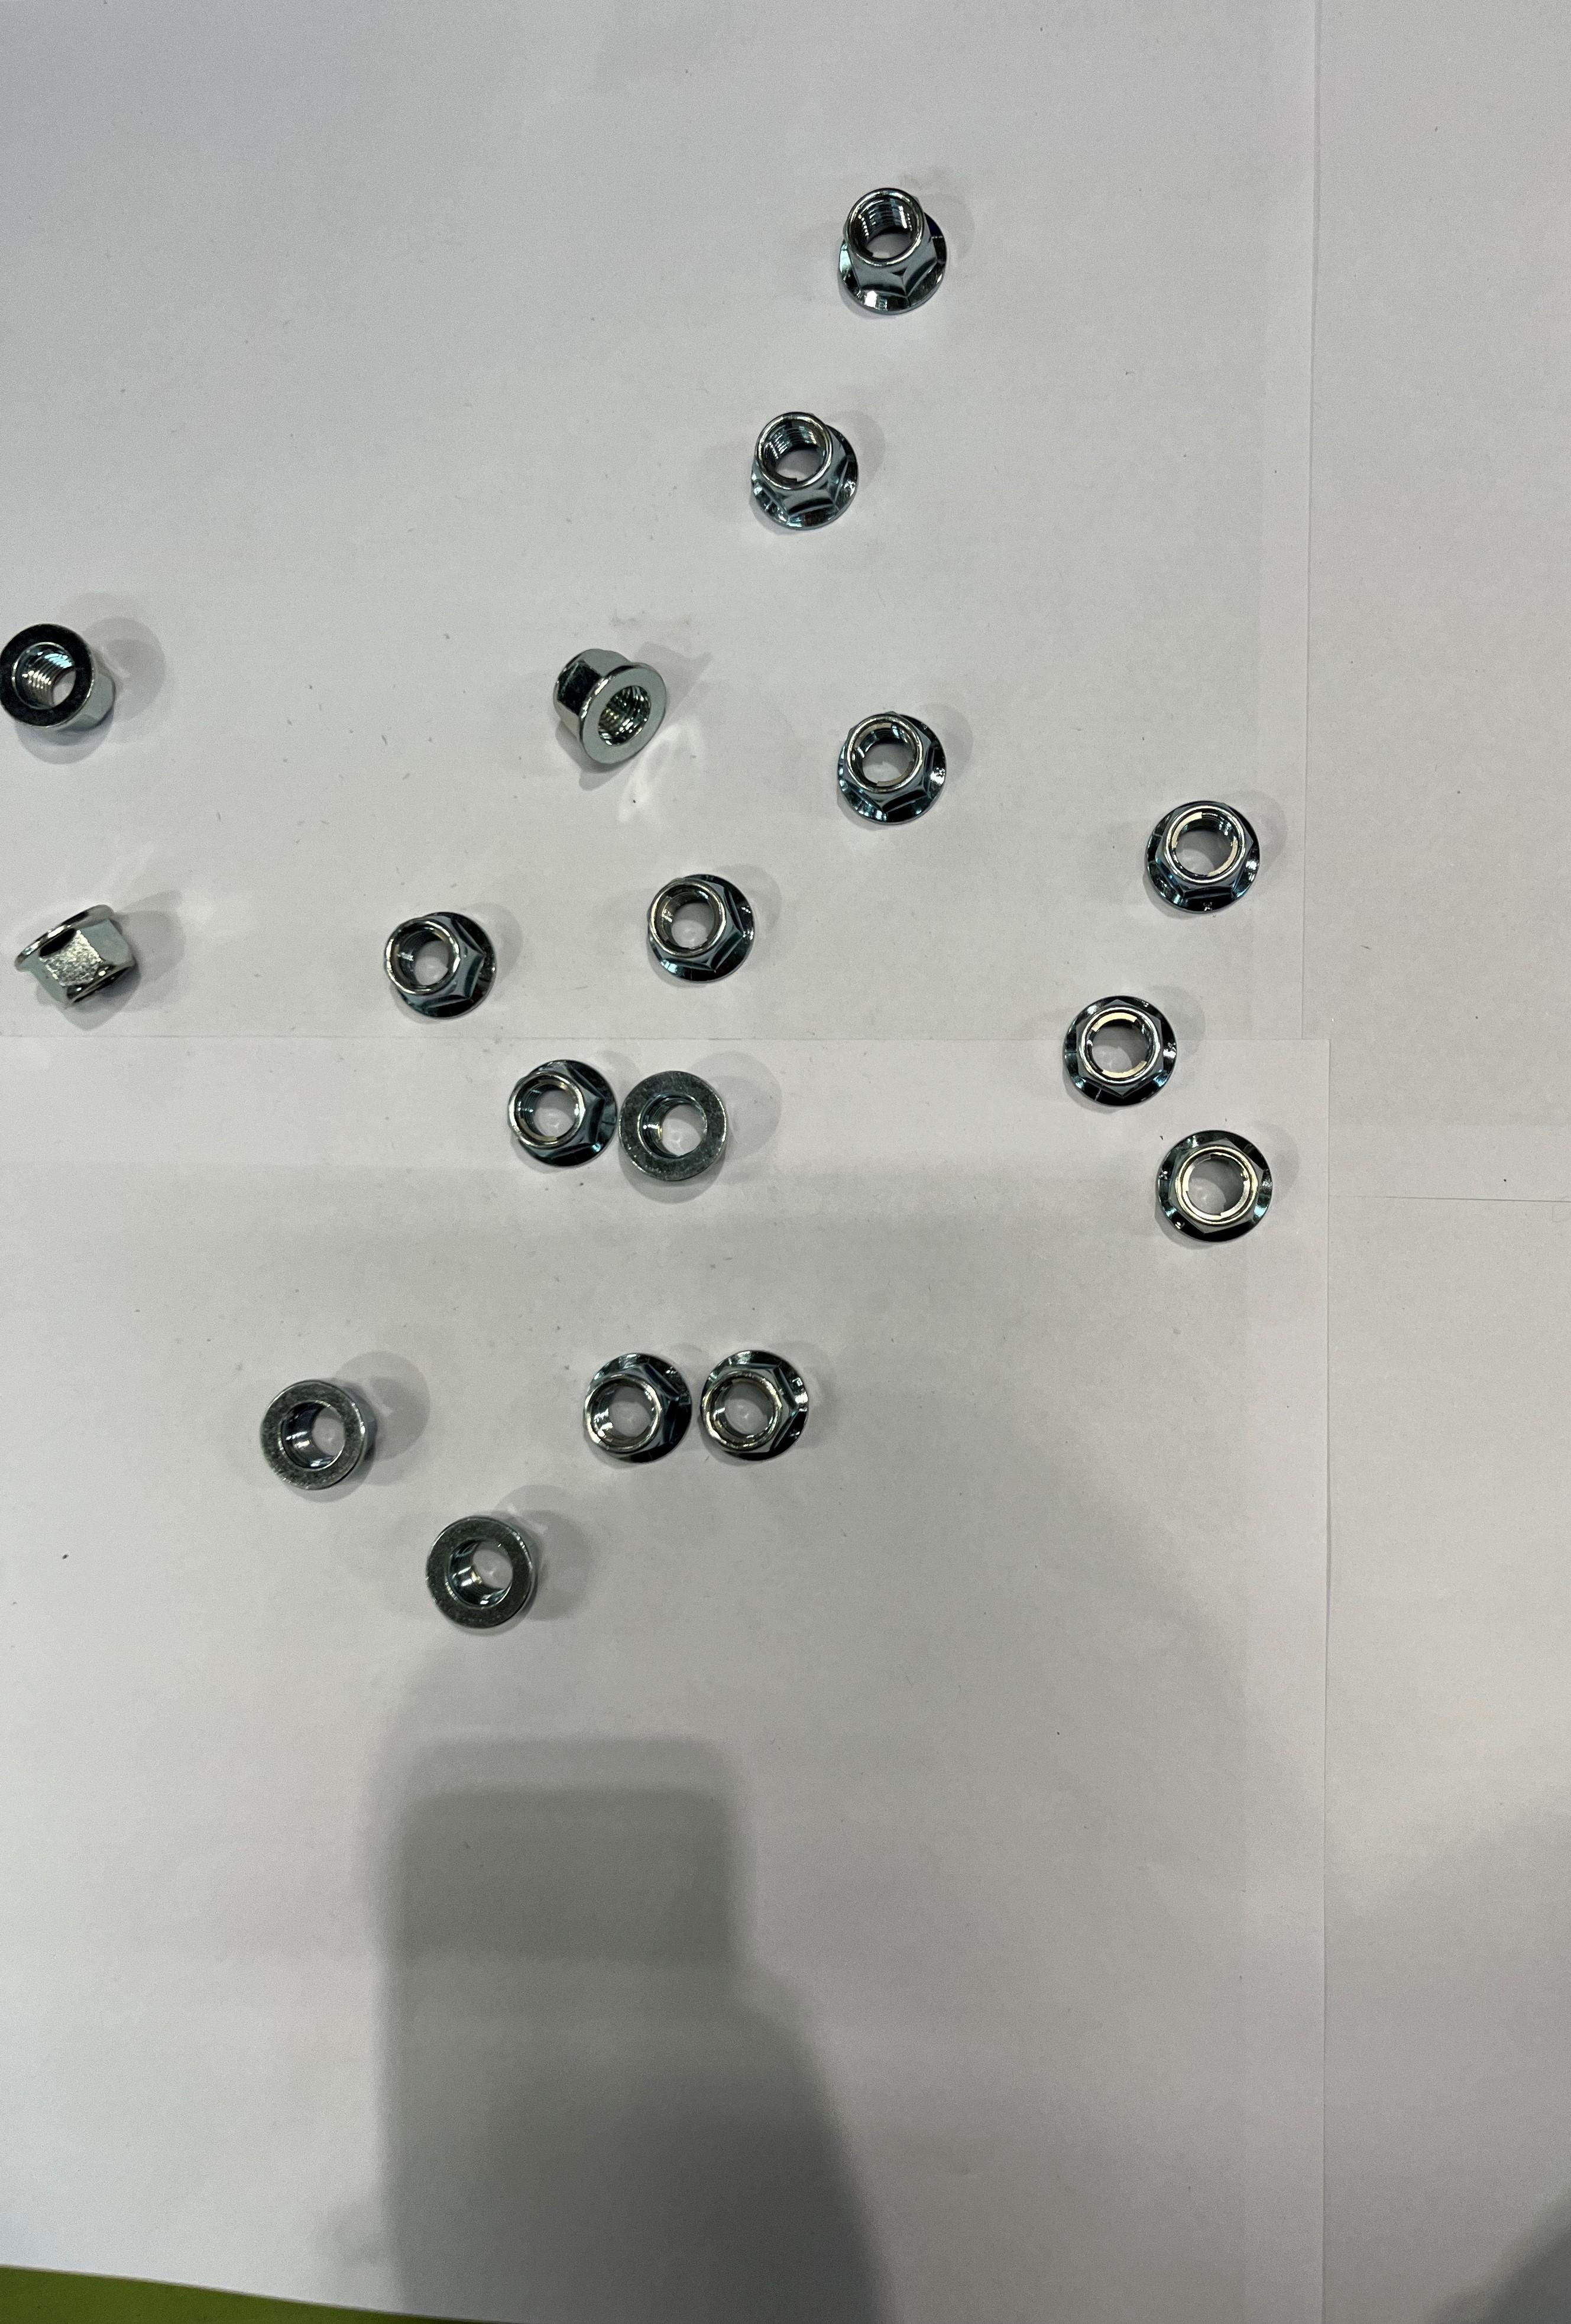Type B: (842, 186, 950, 321), (554, 645, 670, 768), (1159, 1132, 1275, 1255), (426, 1516, 542, 1639), (261, 1376, 373, 1500), (0, 624, 121, 738), (1145, 801, 1261, 918), (752, 412, 863, 533), (14, 903, 139, 1010), (584, 1351, 691, 1469), (700, 1351, 810, 1463), (647, 873, 752, 988), (510, 1053, 615, 1169), (842, 712, 945, 827), (1068, 997, 1171, 1113), (386, 913, 494, 1022), (622, 1074, 726, 1187)
